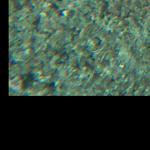dead: (13, 5, 145, 93)
